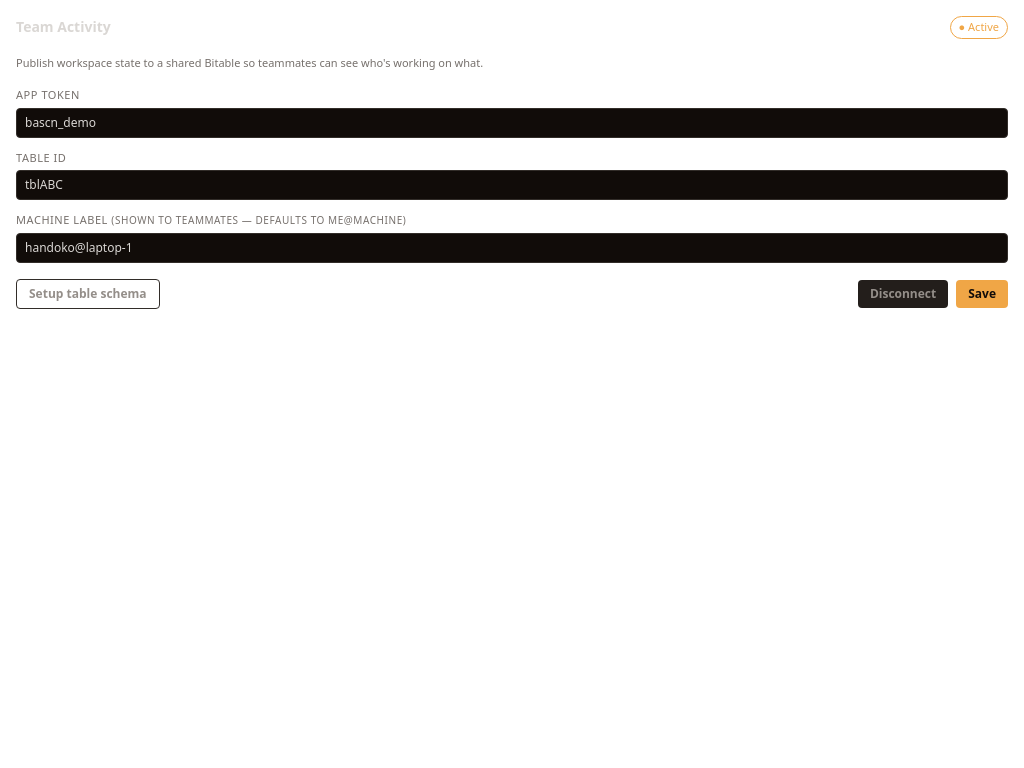
TeamActivitySettings › Cancel button on inline confirm dismisses without disconnecting
The image size is (1024, 768).
Click the button with test id "team-activity-disconnect" at (903, 294), box [858,280,948,308]
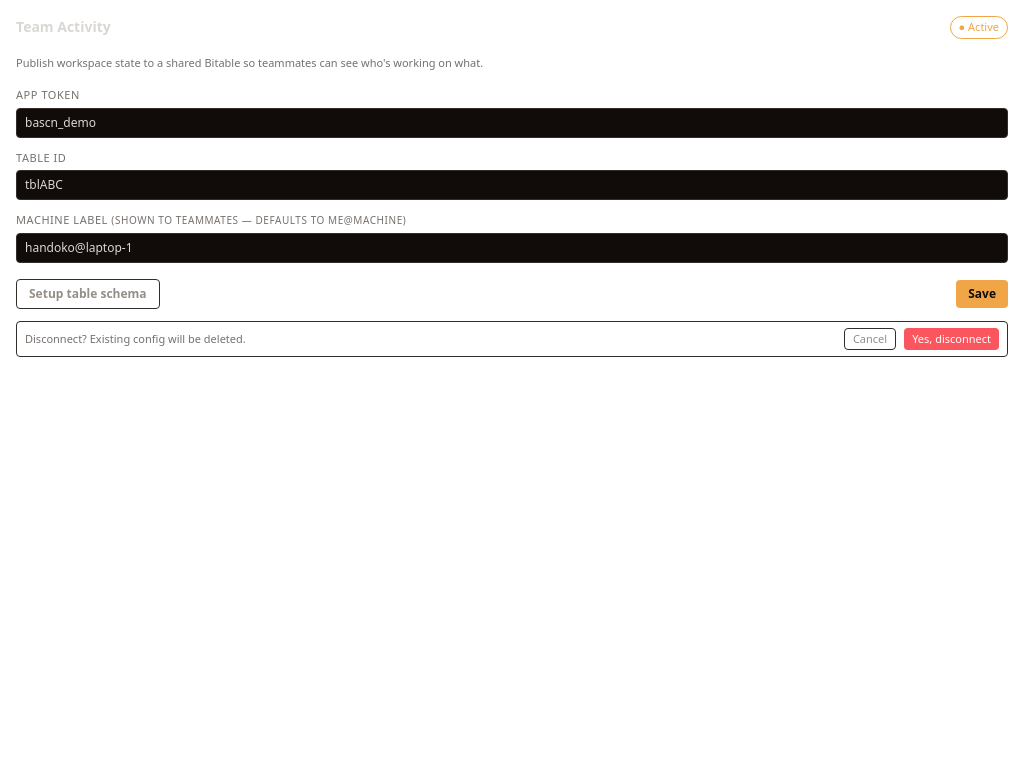
Result: the button with test id "team-activity-disconnect-confirm" is shown at [904,328,999,350]
Click the button with test id "team-activity-disconnect-cancel" at (870, 339), box [844,328,896,350]
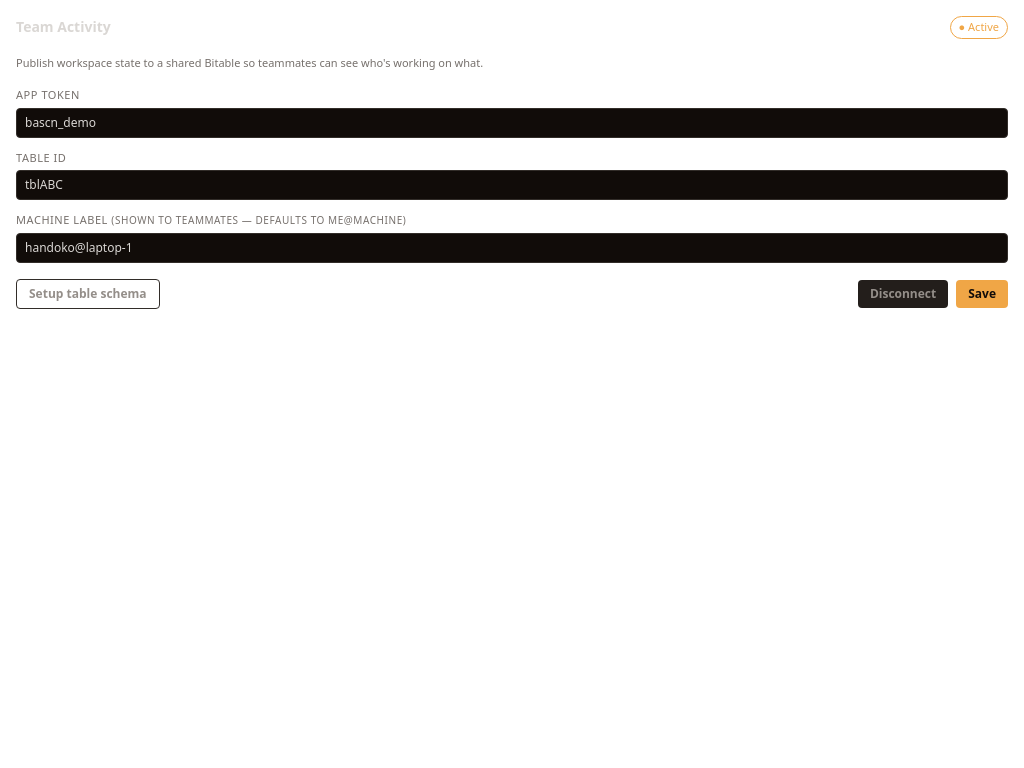
Expected: the text with test id "team-activity-status" shows "Active", [959,19,999,34]
Result: the button with test id "team-activity-disconnect-confirm" is gone
